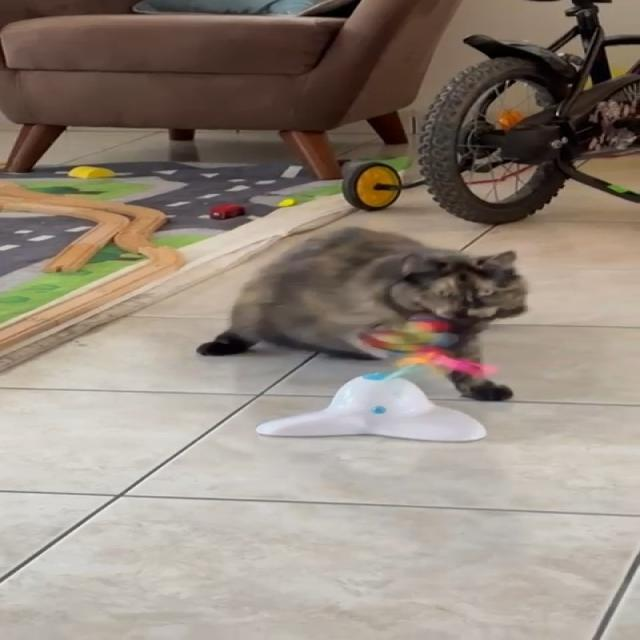authorized: (195, 226, 528, 402)
